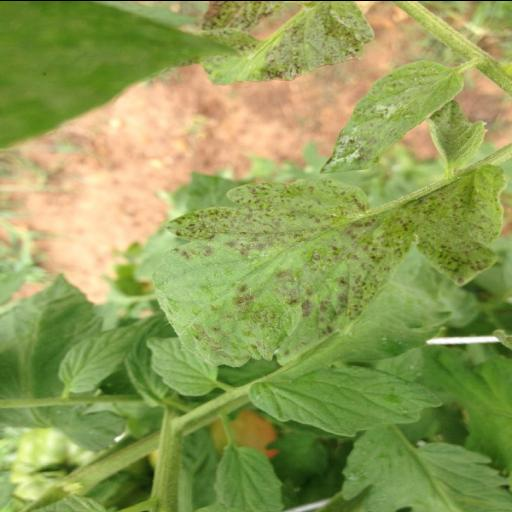Healthy: (246, 364, 446, 438), (56, 321, 143, 394), (213, 442, 284, 512), (144, 336, 222, 398)
Septoria: (138, 162, 508, 366), (315, 58, 467, 174)
